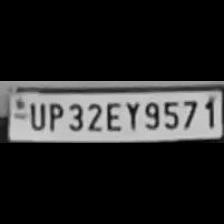1: (198, 96, 218, 128)
2: (84, 100, 102, 132)
3: (65, 100, 83, 132)
5: (159, 96, 179, 130)
7: (180, 96, 198, 130)
9: (140, 97, 160, 130)
E: (103, 100, 121, 132)
P: (45, 100, 63, 132)
U: (24, 99, 46, 131)
Y: (124, 98, 140, 132)
